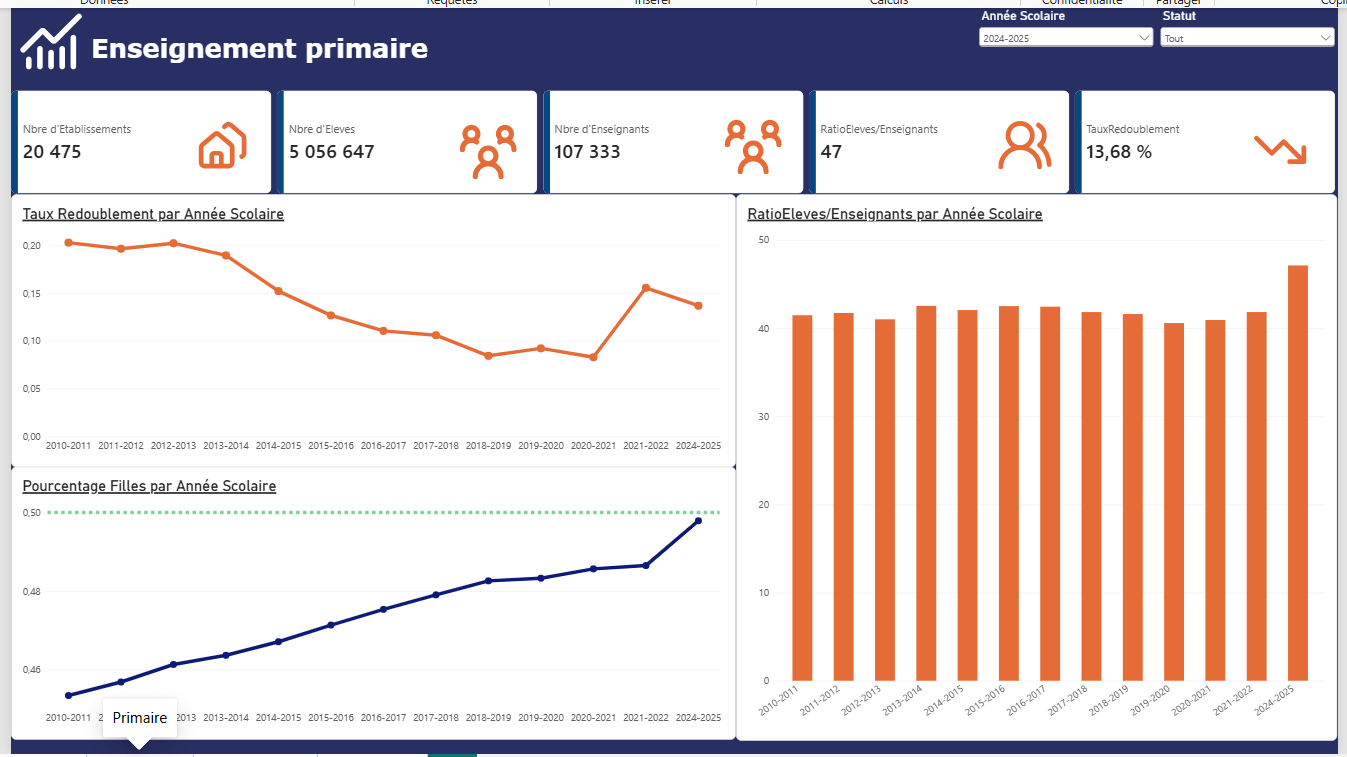

The dashboard page shown, as its layout file describes it:
{"tool":"powerbi","page":{"name":"Primaire","canvas":[1920,1080],"ordinal":1},"visuals":[{"type":"image","box":[0,0,115.3,96.7],"z":0},{"type":"textbox","box":[115.5,34.2,502.4,62],"z":1000},{"type":"cardVisual","fields":{"Data":["Sum(Statistiques.Etablissements)","Sum(Statistiques.Eleves)","Sum(Statistiques.Enseignants Total)","Statistiques.RatioEleves/Enseignants","Statistiques.TauxRedoublement"]},"box":[0,119.7,1920,149.7],"z":2000},{"type":"slicer","fields":{"Values":["Statistiques.Année Scolaire"]},"box":[1397.6,0,261.4,113.2],"z":3000},{"type":"slicer","fields":{"Values":["Statistiques.Statut"]},"box":[1658.6,0,261.4,113.2],"z":4000},{"type":"lineChart","fields":{"Category":["Statistiques.Année Scolaire"],"Y":["Statistiques.TauxRedoublement"]},"box":[0,269.4,1049.8,395.5],"z":5000},{"type":"lineChart","title":"Pourcentage Filles par Année Scolaire","fields":{"Category":["Statistiques.Année Scolaire"],"Y":["Statistiques.PourcentageFilles"]},"box":[0,664.9,1049.8,395.5],"z":6000},{"type":"clusteredColumnChart","fields":{"Category":["Statistiques.Année Scolaire"],"Y":["Statistiques.RatioEleves/Enseignants"]},"box":[1049.8,269.4,870.2,791.1],"z":7000},{"type":"image","box":[245.8,158.3,121,81.9],"z":7004},{"type":"image","box":[1029.6,158.3,89.4,91.2],"z":7005},{"type":"image","box":[646.8,164.5,89.4,91.2],"z":7006},{"type":"image","box":[1789.3,163.8,95,81.9],"z":7007},{"type":"image","box":[1426.2,150.8,83.8,96.8],"z":7008}]}

Visuals, with their boxes on the page's 1920x1080 design canvas (x1, y1, x2, y2). These are canvas units, not pixel positions in the 1347x757 screenshot, which may show the page scaled, cropped or inside an application window:
image: detection(0, 0, 115, 97)
textbox: detection(116, 34, 618, 96)
cardVisual - Sum(Statistiques.Etablissements) x Sum(Statistiques.Eleves): detection(0, 120, 1920, 269)
slicer - Statistiques.Année Scolaire: detection(1398, 0, 1659, 113)
slicer - Statistiques.Statut: detection(1659, 0, 1920, 113)
lineChart - Statistiques.Année Scolaire x Statistiques.TauxRedoublement: detection(0, 269, 1050, 665)
"Pourcentage Filles par Année Scolaire" lineChart: detection(0, 665, 1050, 1060)
clusteredColumnChart - Statistiques.Année Scolaire x Statistiques.RatioEleves/Enseignants: detection(1050, 269, 1920, 1060)
image: detection(246, 158, 367, 240)
image: detection(1030, 158, 1119, 250)
image: detection(647, 164, 736, 256)
image: detection(1789, 164, 1884, 246)
image: detection(1426, 151, 1510, 248)
